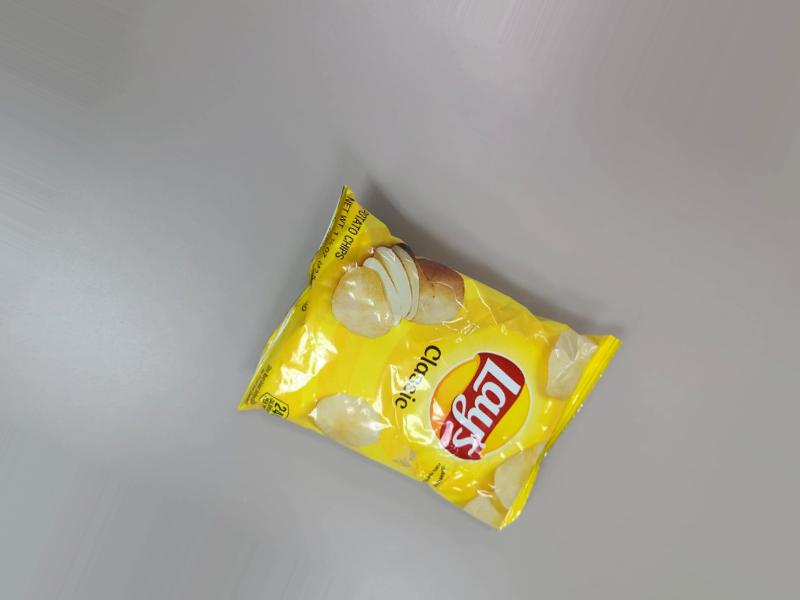lays: (251, 171, 625, 545)
